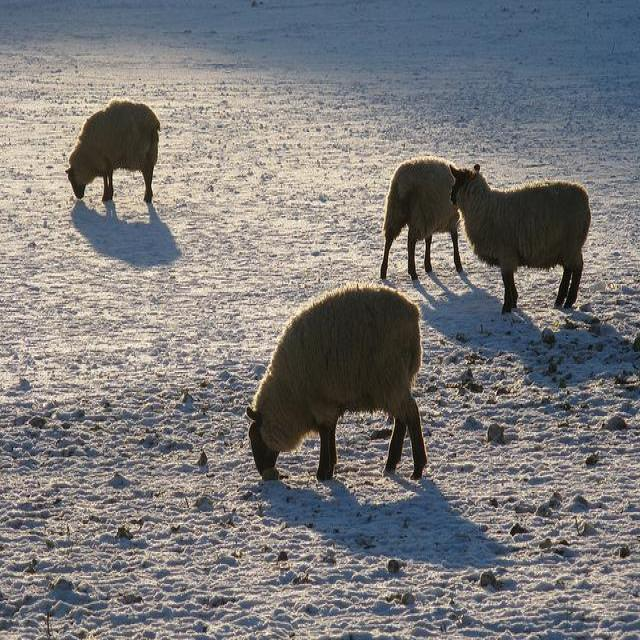Sheep: (243, 287, 432, 485), (450, 163, 592, 313), (380, 157, 462, 284), (65, 103, 163, 204)
